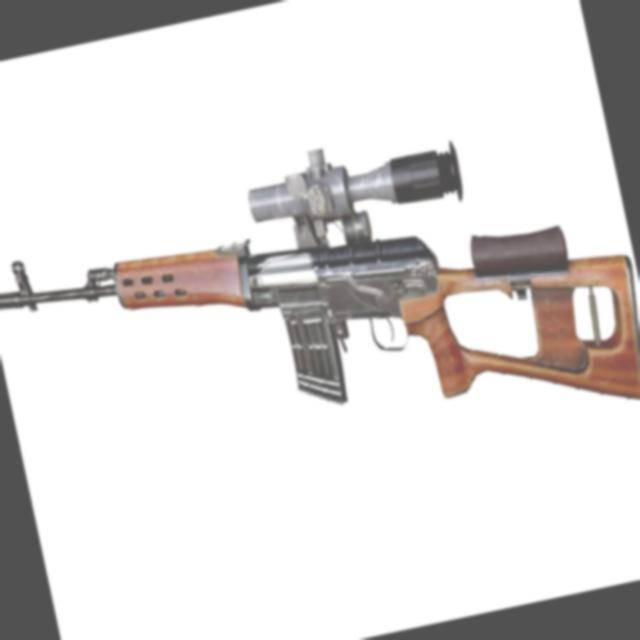rifle: (0, 62, 640, 538)
